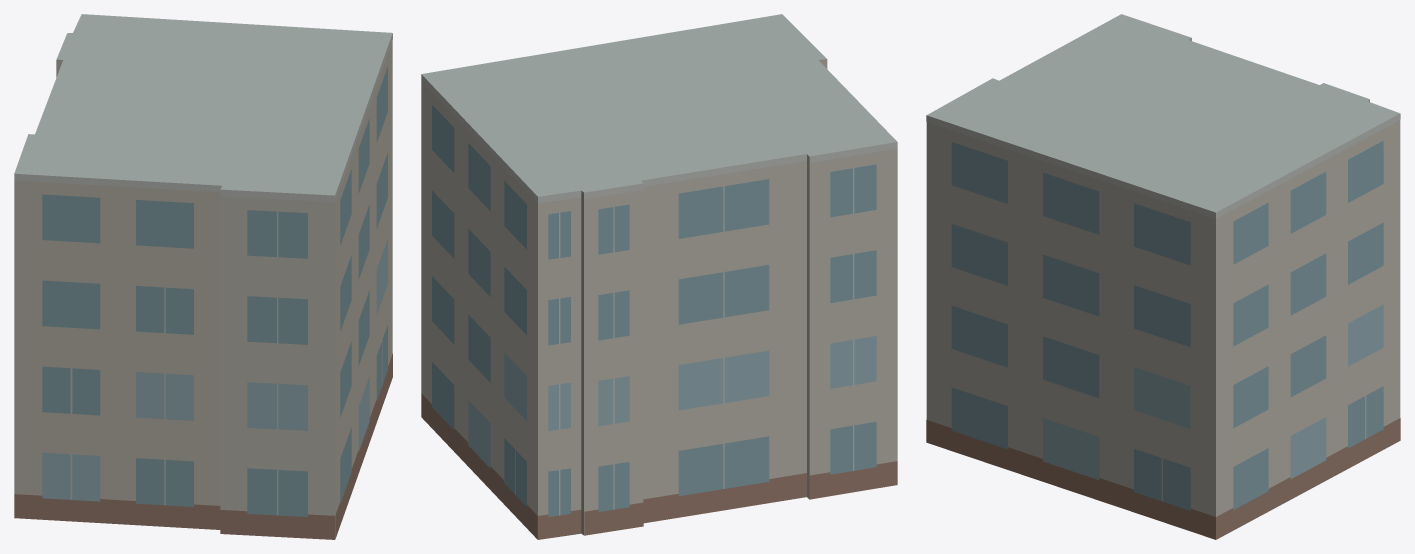
File: survey-upis-32708703.glb
The picture shows the model from 3 angles, left to right: view 1: azimuth 30°, elevation 25°; view 2: azimuth 150°, elevation 25°; view 3: azimuth 270°, elevation 25°; orthographic projection. The views are drawn at different scales.
Visible parts, largest first — view 1: survey-upis-32708703.tmp; view 2: survey-upis-32708703.tmp; view 3: survey-upis-32708703.tmp.
Part boxes in pixels (<box>): survey-upis-32708703.tmp: <box>14,14,392,539</box>; survey-upis-32708703.tmp: <box>421,14,897,539</box>; survey-upis-32708703.tmp: <box>926,14,1400,539</box>.
Bounding box in the file's own units: 16.41 × 12.6 × 16.55.
